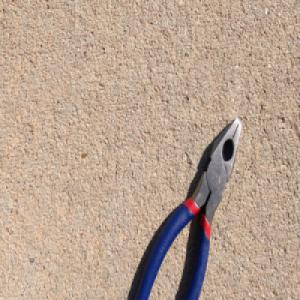Pliers: (133, 115, 242, 300)
